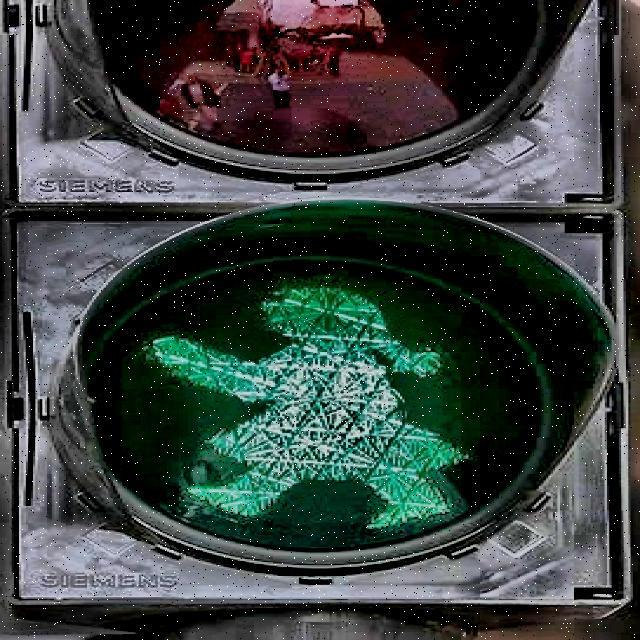green_light: (136, 279, 478, 531)
